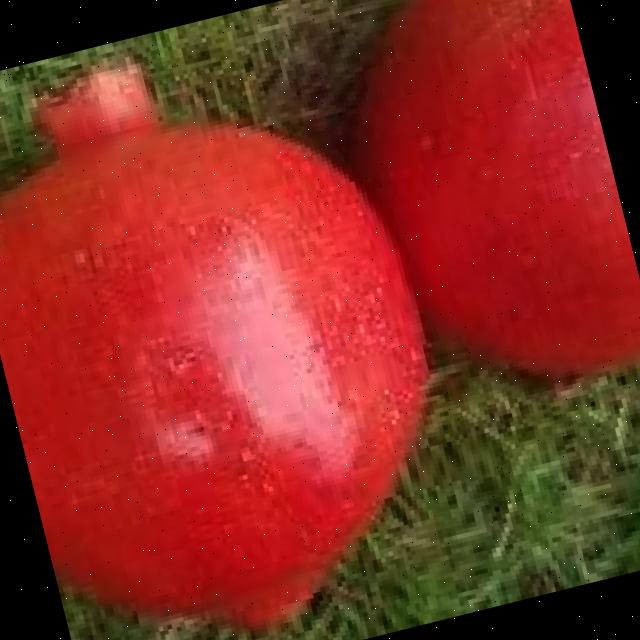Bad_Pomegranate-0-1-day: (0, 0, 492, 640)
Good_Pomegranate 50-60-days: (0, 0, 640, 640)
